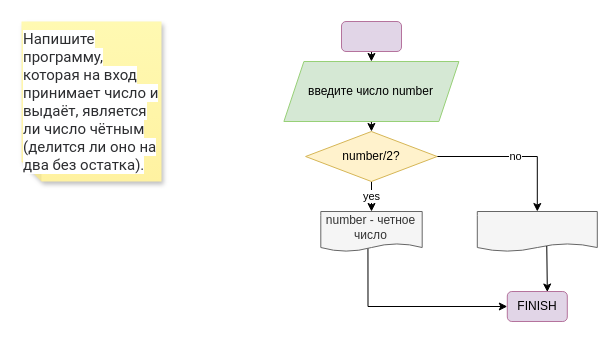
This 615x339 diagram has some shape labels left out. The shapes that lost their labels are listed below. From the top down, each one's centre as x and y in pixels, then its label:
[371,36]: START
[536,231]: number - нечетное число
